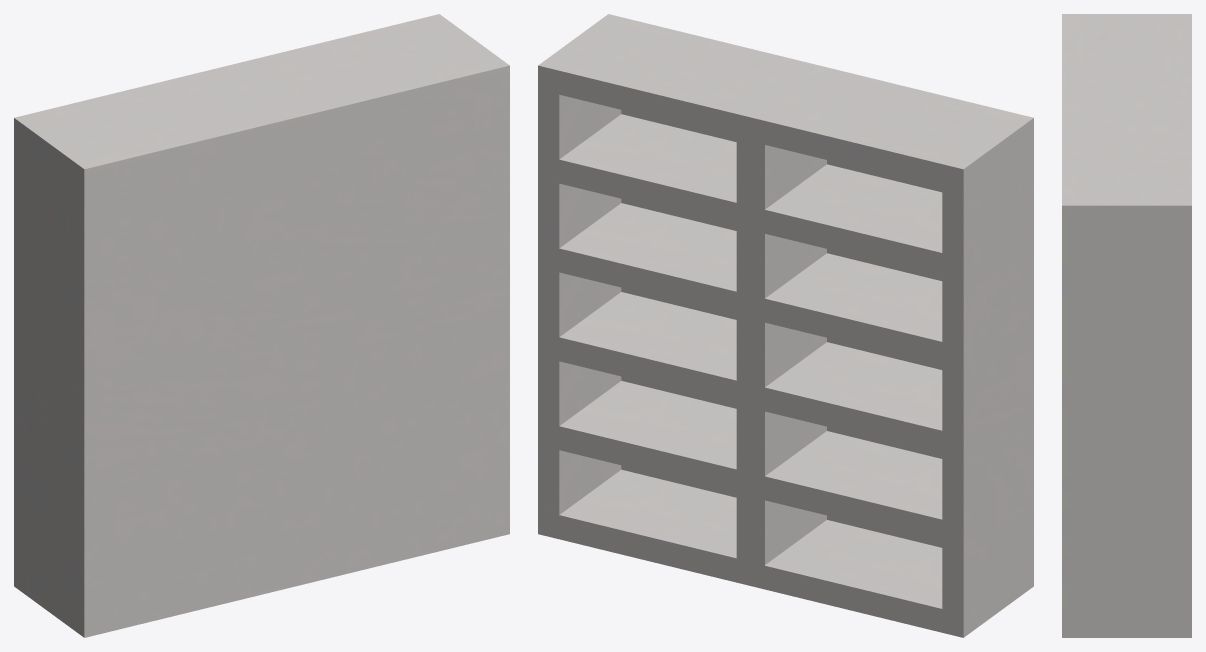
Rendered from Pfb_CoatHanger.fbx.
3 views of the same model, side by side, from view 1: azimuth 30°, elevation 25°; view 2: azimuth 150°, elevation 25°; view 3: azimuth 270°, elevation 25° (orthographic). The views are drawn at different scales.
Visible parts, largest first — view 1: MAT_Coathanger_Dark_M; view 2: MAT_Coathanger_Dark_M; view 3: MAT_Coathanger_Dark_M.
Part boxes in pixels (box(x1,y1,x2,y2)): MAT_Coathanger_Dark_M: box(14, 14, 509, 637); MAT_Coathanger_Dark_M: box(538, 14, 1033, 637); MAT_Coathanger_Dark_M: box(1062, 14, 1191, 637).
Bounding box in the file's own units: 1.53 × 1.61 × 0.4373.
1 material, 1 textured.
